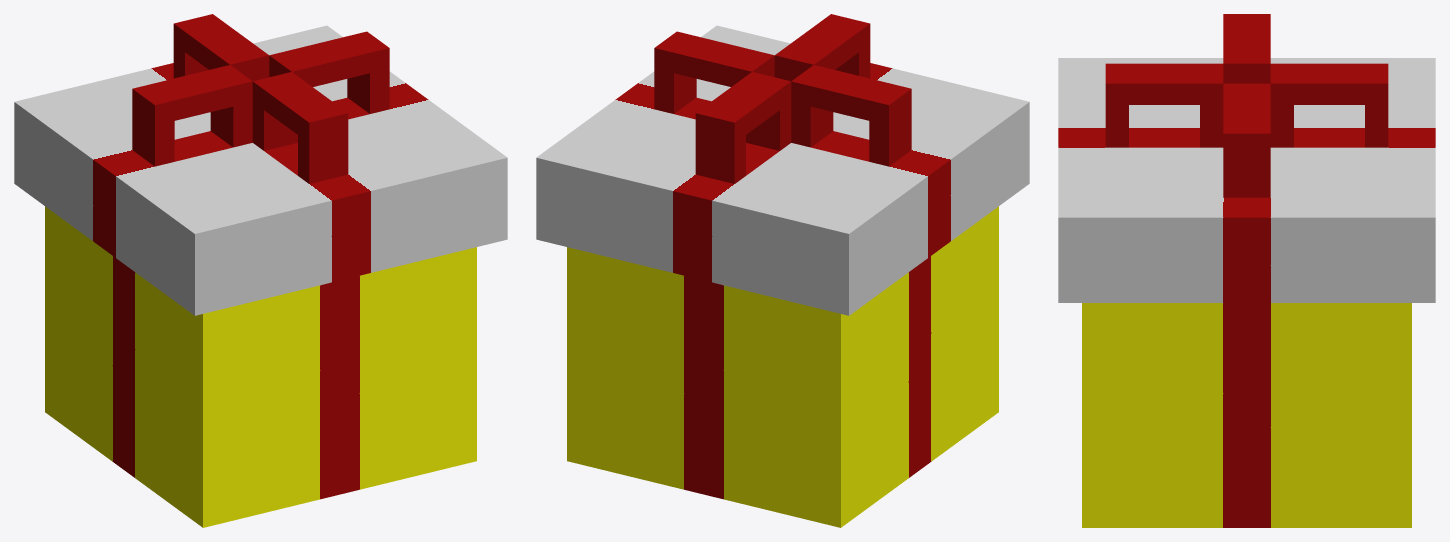
File: giftBox.dae
3 renders of one model, left to right at view 1: azimuth 30°, elevation 25°; view 2: azimuth 150°, elevation 25°; view 3: azimuth 270°, elevation 25°, orthographic. The views are drawn at different scales.
Parts seen in each view (by area): view 1: giftBox; view 2: giftBox; view 3: giftBox.
Boxes of the visible parts, x1,y1,x2,y2 form: giftBox: [14, 14, 507, 527]; giftBox: [536, 14, 1029, 527]; giftBox: [1058, 14, 1435, 527].
Bounding box in the file's own units: 1.6 × 1.6 × 1.8.
Materials: 1 (1 with a texture image).
